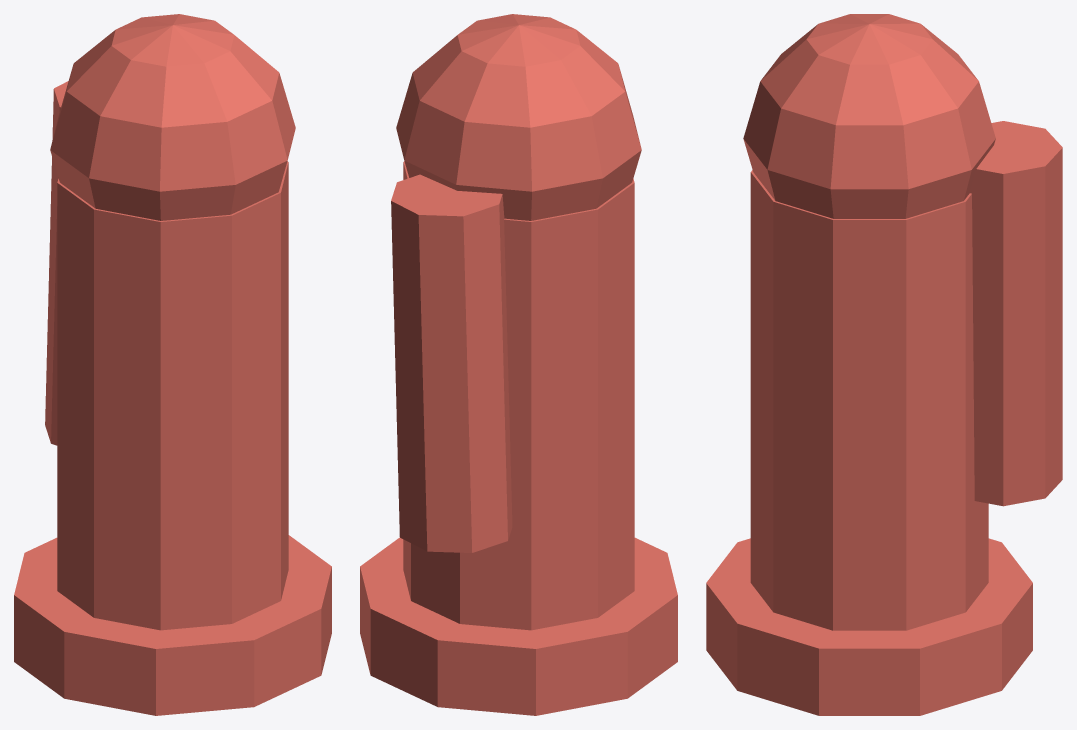
The model's file is hydrant.glb.
3 renders of one model, left to right at view 1: azimuth 30°, elevation 25°; view 2: azimuth 150°, elevation 25°; view 3: azimuth 270°, elevation 25°, orthographic.
Visible parts, largest first — view 1: Body, Top, Base, Nozzle; view 2: Body, Nozzle, Top, Base; view 3: Body, Top, Nozzle, Base.
Boxes of the visible parts, x1=… form: Body: x1=57, y1=161, x2=288, y2=630; Top: x1=50, y1=14, x2=295, y2=220; Base: x1=14, y1=535, x2=331, y2=715; Nozzle: x1=45, y1=81, x2=68, y2=445; Body: x1=403, y1=161, x2=634, y2=630; Nozzle: x1=391, y1=174, x2=512, y2=552; Top: x1=396, y1=14, x2=641, y2=220; Base: x1=360, y1=537, x2=677, y2=715; Body: x1=750, y1=170, x2=988, y2=630; Top: x1=743, y1=14, x2=995, y2=218; Nozzle: x1=970, y1=121, x2=1062, y2=506; Base: x1=706, y1=538, x2=1032, y2=715.
Bounding box in the file's own units: 0.4185 × 0.93 × 0.48.
